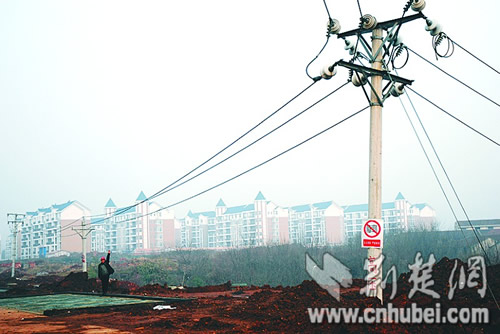utility_pole: (303, 1, 455, 105)
